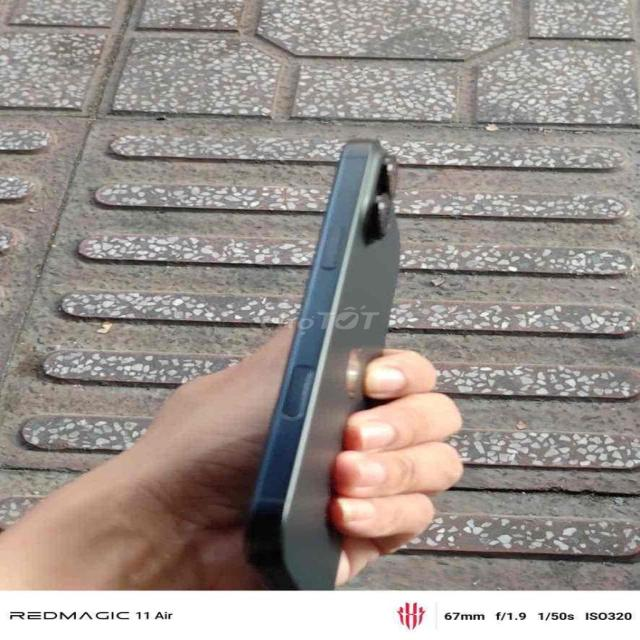gen_16: (232, 130, 425, 594)
